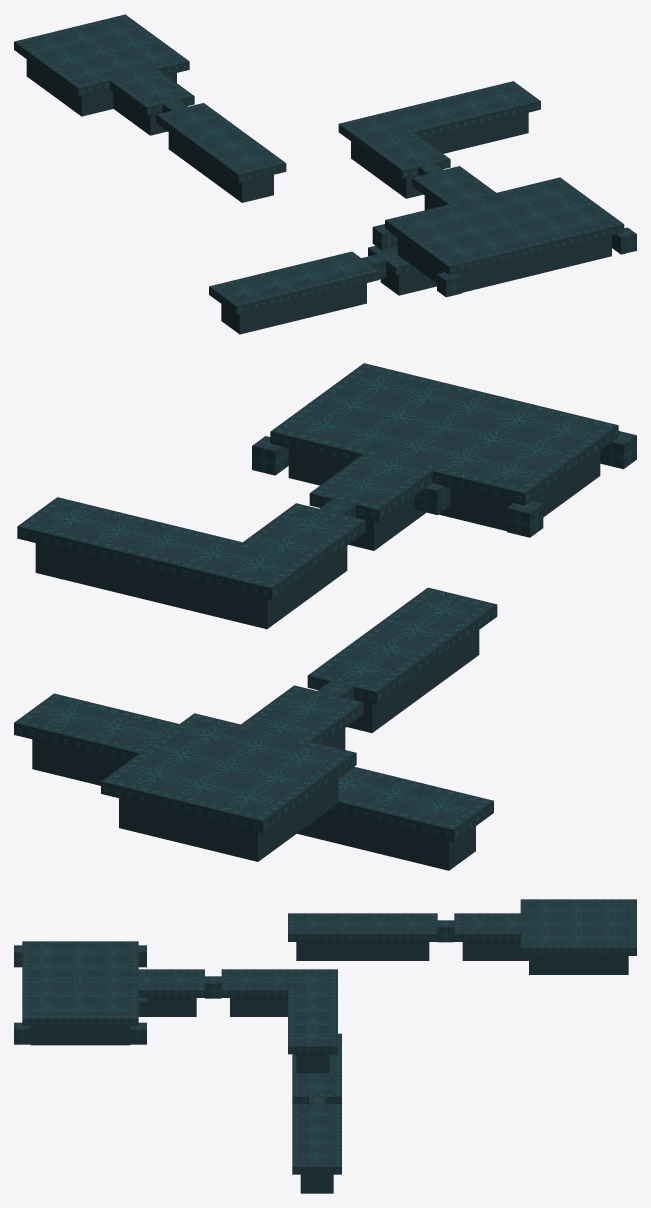
File: ActionMap.fbx
3 renders of one model, top to bottom at view 1: azimuth 30°, elevation 25°; view 2: azimuth 150°, elevation 25°; view 3: azimuth 270°, elevation 25°, orthographic. The views are drawn at different scales.
Visible parts, largest first — view 1: MapTile_A.020, MapTile_A.019, MapTile_A.001, MapTile_A.002, MapTile_A.003, MapTile_A.006, MapTile_A.010, MapTile_A.018, MapTile_A.008, MapTile_A.009, MapTile_A.007, MapTile_C.003 (+20 smaller); view 2: MapTile_A.019, MapTile_A.020, MapTile_A.001, MapTile_A.002, MapTile_A.003, MapTile_A.018, MapTile_A.006, MapTile_A.010, MapTile_A.021, MapTile_A.004, MapTile_A.009, MapTile_C.012 (+28 smaller); view 3: MapTile_A.001, MapTile_A.002, MapTile_A.009, MapTile_A.004, MapTile_A.006, MapTile_A.019, MapTile_A.021, MapTile_A.018, MapTile_C.024, MapTile_A.003, MapTile_A.007, MapTile_A.008 (+16 smaller).
Part boxes in pixels (box(x1,y1,x2,y2)): MapTile_A.020: box(221, 257, 366, 334); MapTile_A.019: box(383, 86, 528, 153); MapTile_A.001: box(168, 108, 273, 202); MapTile_A.002: box(58, 27, 181, 135); MapTile_A.003: box(26, 35, 113, 116); MapTile_A.006: box(424, 171, 548, 279); MapTile_A.010: box(397, 213, 484, 292); MapTile_A.018: box(351, 117, 437, 198); MapTile_A.008: box(430, 206, 516, 286); MapTile_A.009: box(525, 182, 611, 263); MapTile_A.007: box(493, 190, 579, 271); MapTile_C.003: box(444, 221, 624, 275); MapTile_A.019: box(35, 505, 246, 617); MapTile_A.020: box(297, 771, 475, 870); MapTile_A.001: box(326, 595, 479, 732); MapTile_A.002: box(165, 693, 345, 850); MapTile_A.003: box(211, 743, 338, 861); MapTile_A.018: box(221, 511, 347, 629); MapTile_A.006: box(328, 393, 507, 550); MapTile_A.010: box(474, 416, 600, 531); MapTile_A.021: box(32, 701, 172, 785); MapTile_A.004: box(119, 721, 245, 839); MapTile_A.009: box(288, 371, 414, 485); MapTile_C.012: box(17, 521, 266, 597); MapTile_A.001: box(296, 916, 429, 960); MapTile_A.002: box(462, 916, 628, 960); MapTile_A.009: box(30, 1001, 130, 1045); MapTile_A.004: box(529, 931, 628, 974); MapTile_A.006: box(30, 973, 196, 1016); MapTile_A.019: box(296, 987, 329, 1073); MapTile_A.021: box(300, 1107, 333, 1193); MapTile_A.018: box(230, 973, 329, 1016); MapTile_C.024: box(288, 931, 437, 941); MapTile_A.003: box(529, 902, 628, 916); MapTile_A.007: box(30, 987, 130, 1000); MapTile_A.008: box(30, 959, 130, 972).
Size of what is drawn, in the model's own units: 8400 by 4000 by 15000.
